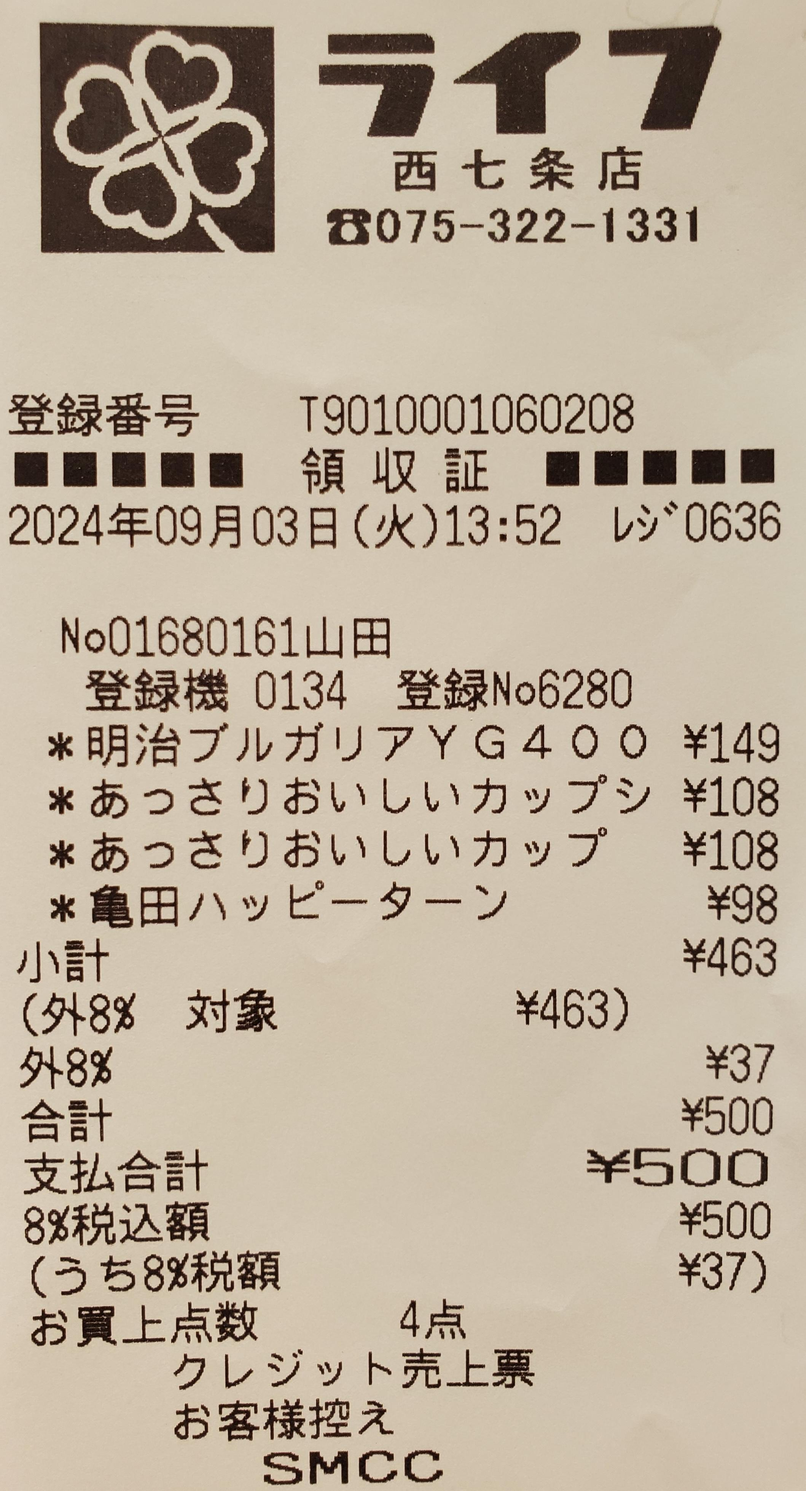TEL: (379, 200, 718, 254)
date: (4, 497, 345, 548)
total: (630, 1143, 783, 1198)
